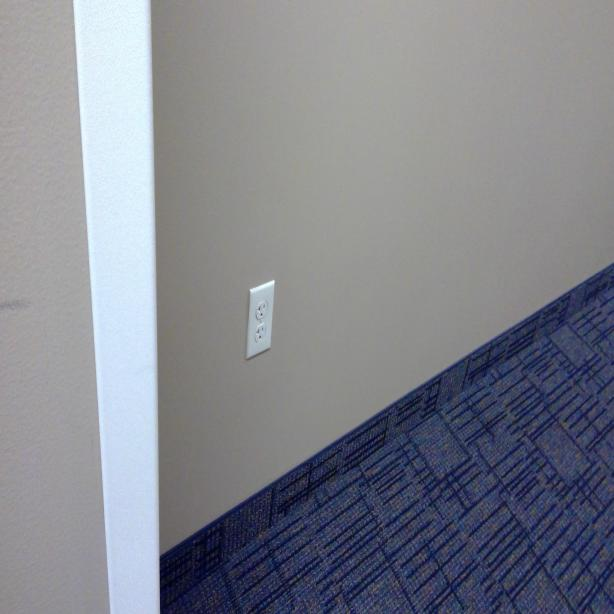typeb: (256, 324, 267, 344), (257, 300, 267, 320)
